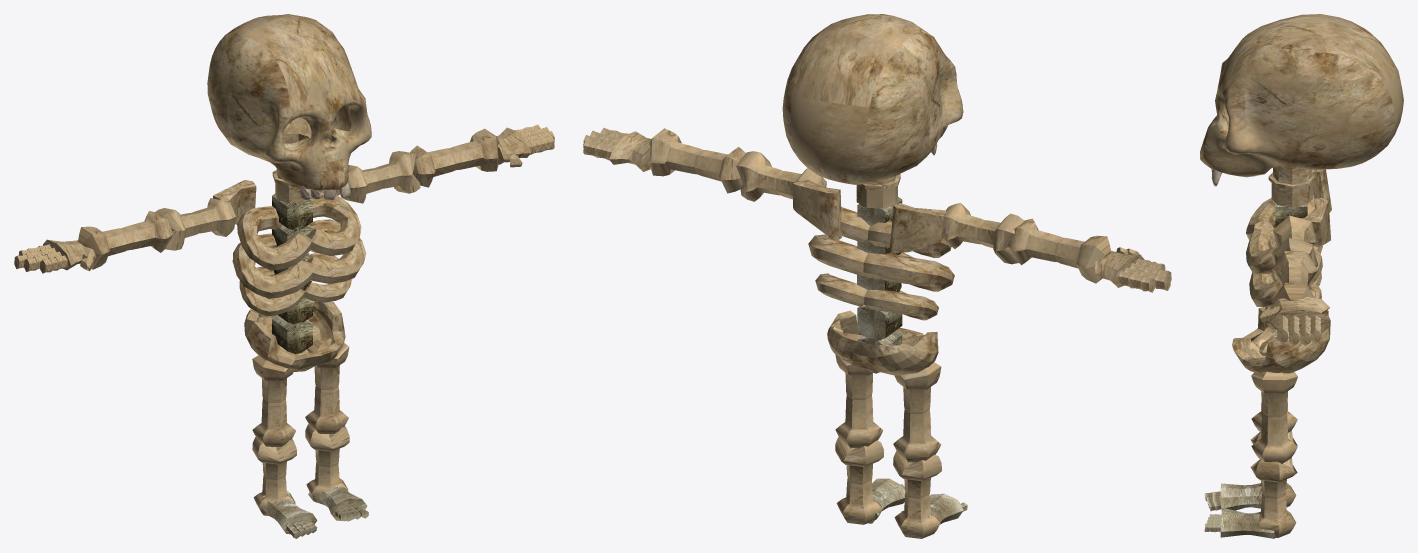
The model's file is Skelly-Basic-1.fbx.
3 renders of one model, left to right at view 1: azimuth 30°, elevation 25°; view 2: azimuth 150°, elevation 25°; view 3: azimuth 270°, elevation 25°, orthographic. The views are drawn at different scales.
Visible parts, largest first — view 1: skull_low_poly:Group17420, pasted__polySurface22, pasted__polySurface24, pasted__polySurface77, pasted__polySurface73, pasted__polySurface74, pasted__pasted__pasted__pasted__polySurface1, pasted__pasted__pasted__pasted__pasted__polySurface1, polySurface1, polySurface2, pasted__polySurface32, pasted__pasted__pasted__polySurface2 (+9 smaller); view 2: skull_low_poly:Group17420, pasted__polySurface77, pasted__polySurface24, pasted__polySurface74, pasted__polySurface73, pasted__pasted__pasted__pasted__polySurface1, pasted__pasted__polySurface2, pasted__pasted__pasted__polySurface2, pasted__polySurface32, pasted__pasted__pasted__pasted__pasted__polySurface1, polySurface2, polySurface1 (+9 smaller); view 3: skull_low_poly:Group17420, pasted__polySurface77, pasted__pasted__pasted__pasted__pasted__polySurface1, pasted__pasted__pasted__polySurface2, pasted__polySurface22, pasted__polySurface73, pasted__pCylinder5, polySurface1, pasted__polySurface11, pasted__polySurface24, pasted__pasted__polySurface11, pasted__pasted__pasted__polySurface11 (+6 smaller).
Part boxes in pixels (<box>): skull_low_poly:Group17420: <box>207,14,371,192</box>; pasted__polySurface22: <box>237,192,361,270</box>; pasted__polySurface24: <box>232,219,366,298</box>; pasted__polySurface77: <box>244,301,345,371</box>; pasted__polySurface73: <box>410,128,499,187</box>; pasted__polySurface74: <box>78,211,172,269</box>; pasted__pasted__pasted__pasted__polySurface1: <box>252,349,295,446</box>; pasted__pasted__pasted__pasted__pasted__polySurface1: <box>305,338,349,433</box>; polySurface1: <box>343,151,420,203</box>; polySurface2: <box>155,198,235,250</box>; pasted__polySurface32: <box>239,253,352,316</box>; pasted__pasted__pasted__polySurface2: <box>305,424,349,502</box>; skull_low_poly:Group17420: <box>782,14,963,184</box>; pasted__polySurface77: <box>827,310,938,375</box>; pasted__polySurface24: <box>808,234,954,291</box>; pasted__polySurface74: <box>1007,218,1110,283</box>; pasted__polySurface73: <box>649,128,745,193</box>; pasted__pasted__pasted__pasted__polySurface1: <box>893,362,941,462</box>; pasted__pasted__polySurface2: <box>893,451,941,538</box>; pasted__pasted__pasted__polySurface2: <box>835,437,883,524</box>; pasted__polySurface32: <box>815,273,938,320</box>; pasted__pasted__pasted__pasted__pasted__polySurface1: <box>835,354,883,448</box>; polySurface2: <box>942,203,1023,264</box>; polySurface1: <box>736,151,826,201</box>; skull_low_poly:Group17420: <box>1200,14,1403,177</box>; pasted__polySurface77: <box>1232,307,1330,373</box>; pasted__pasted__pasted__pasted__pasted__polySurface1: <box>1251,371,1297,463</box>; pasted__pasted__pasted__polySurface2: <box>1250,457,1297,537</box>; pasted__polySurface22: <box>1246,195,1314,274</box>; pasted__polySurface73: <box>1271,251,1317,304</box>; pasted__pCylinder5: <box>1268,165,1315,207</box>; polySurface1: <box>1271,215,1318,267</box>; pasted__polySurface11: <box>1270,296,1329,333</box>; pasted__polySurface24: <box>1249,227,1322,306</box>; pasted__pasted__polySurface11: <box>1220,508,1274,538</box>; pasted__pasted__pasted__polySurface11: <box>1220,483,1261,510</box>.
Bounding box in the file's own units: 17.42 × 14.85 × 5.47.
8 materials, 8 textured.
